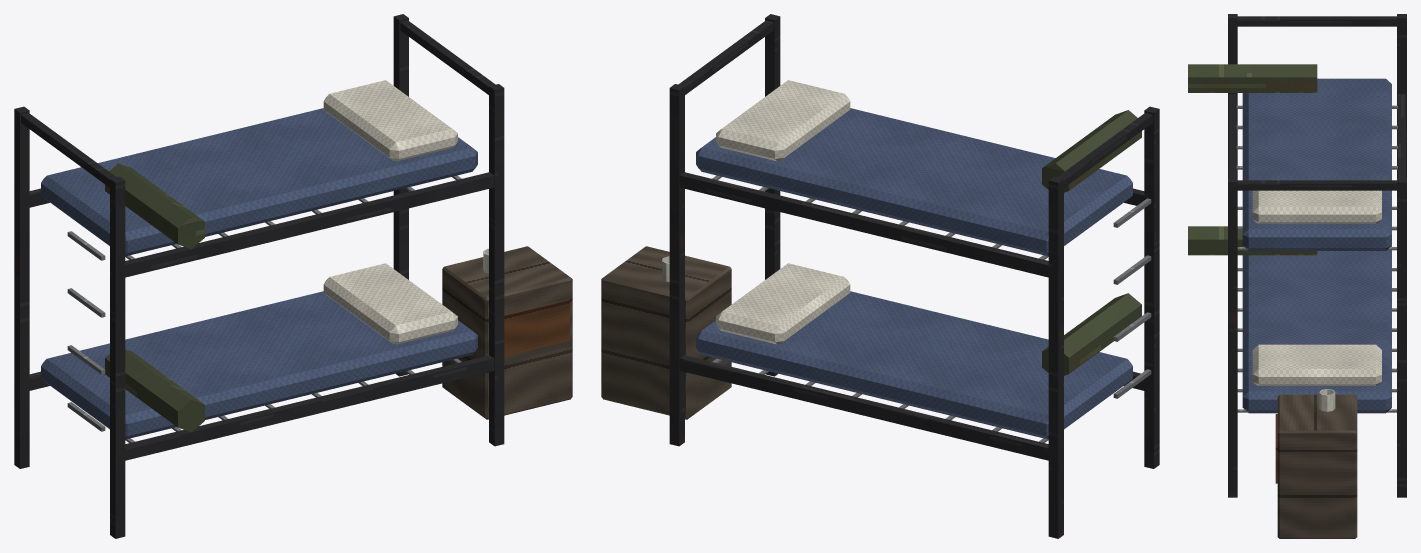
File: bunk_bed.glb
The picture shows the model from 3 angles, left to right: view 1: azimuth 30°, elevation 25°; view 2: azimuth 150°, elevation 25°; view 3: azimuth 270°, elevation 25°; orthographic projection. The views are drawn at different scales.
Parts seen in each view (by area): view 1: bunk_bed; view 2: bunk_bed; view 3: bunk_bed.
Boxes of the visible parts, box(x1,y1,x2,y2) form: bunk_bed: box(14, 14, 572, 538); bunk_bed: box(601, 14, 1159, 538); bunk_bed: box(1188, 14, 1406, 538).
Size of what is drawn, in the model's own units: 2.51 by 1.75 by 1.1.
Materials: 8 (8 with a texture image).
